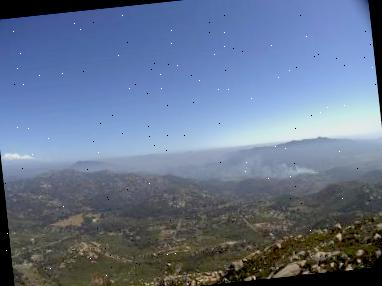smoke: (212, 147, 314, 186)
